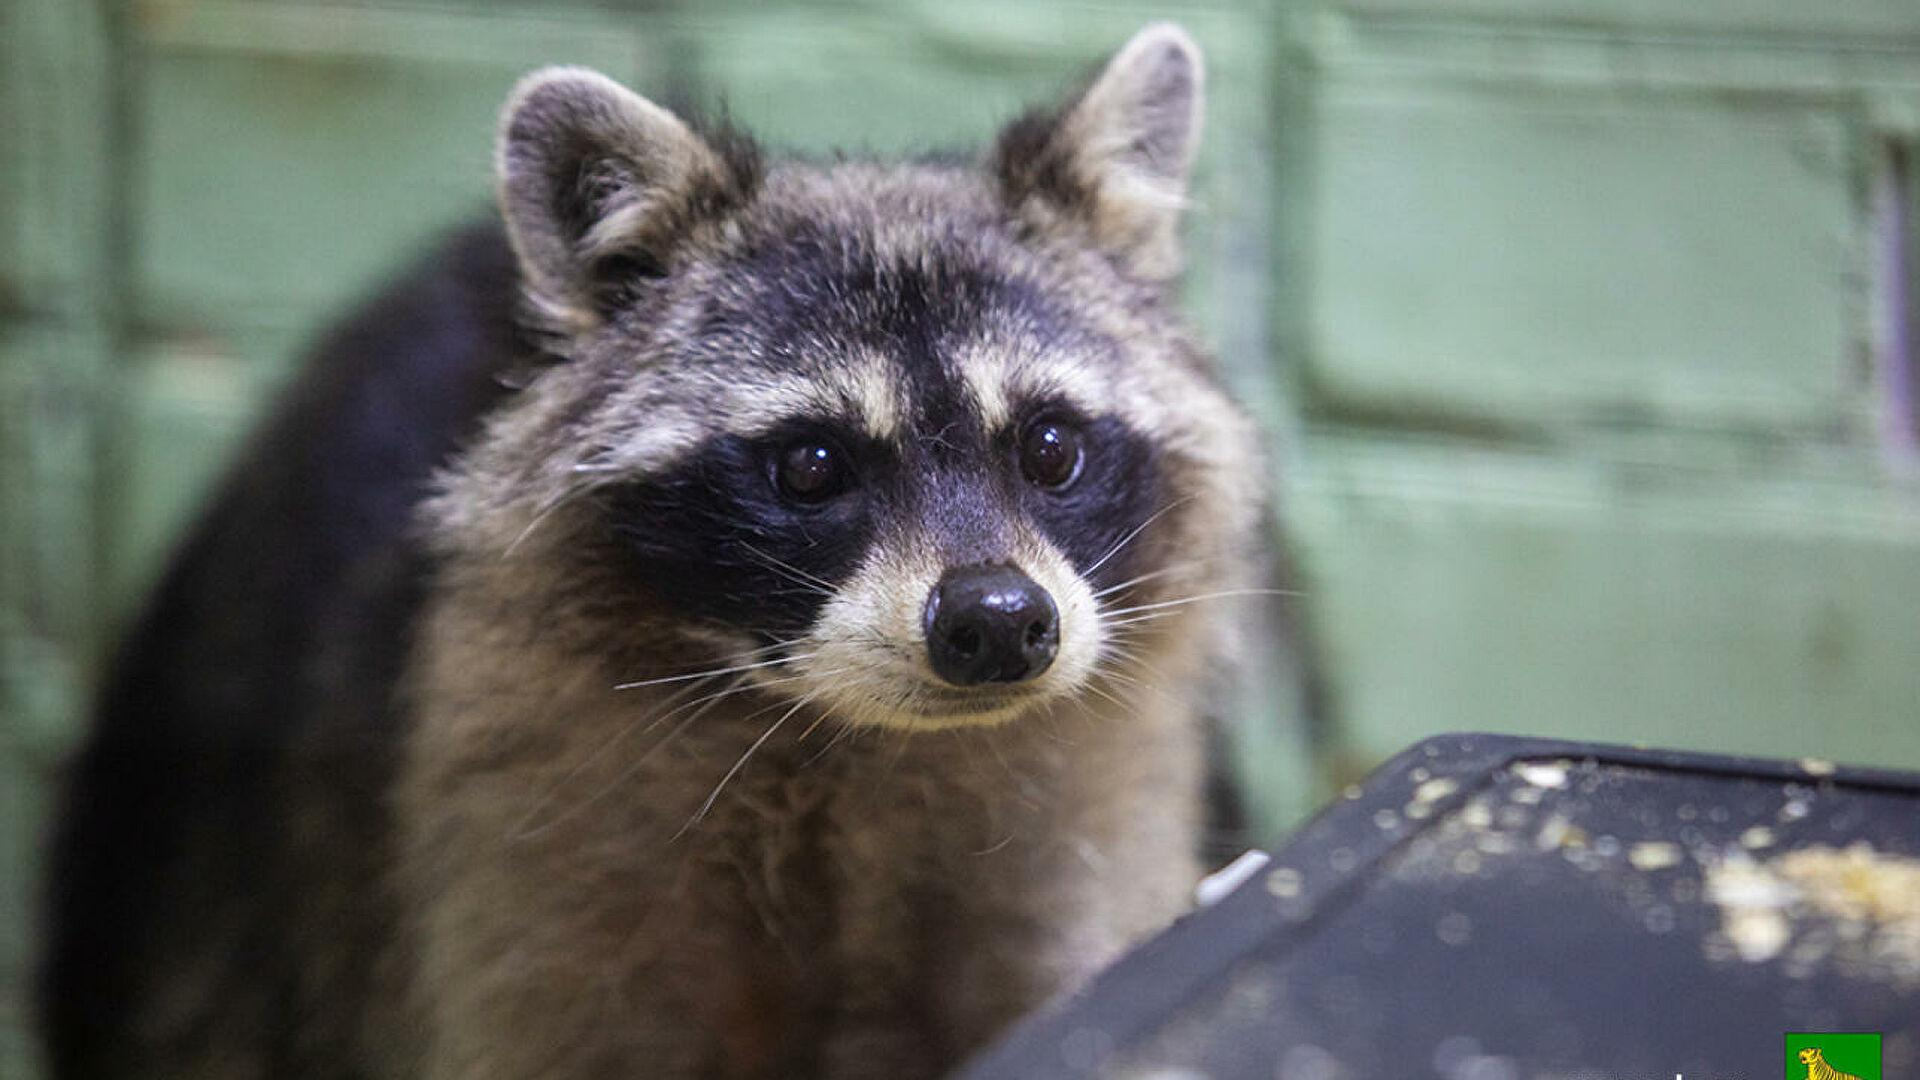raccoon: (83, 7, 1263, 1080)
